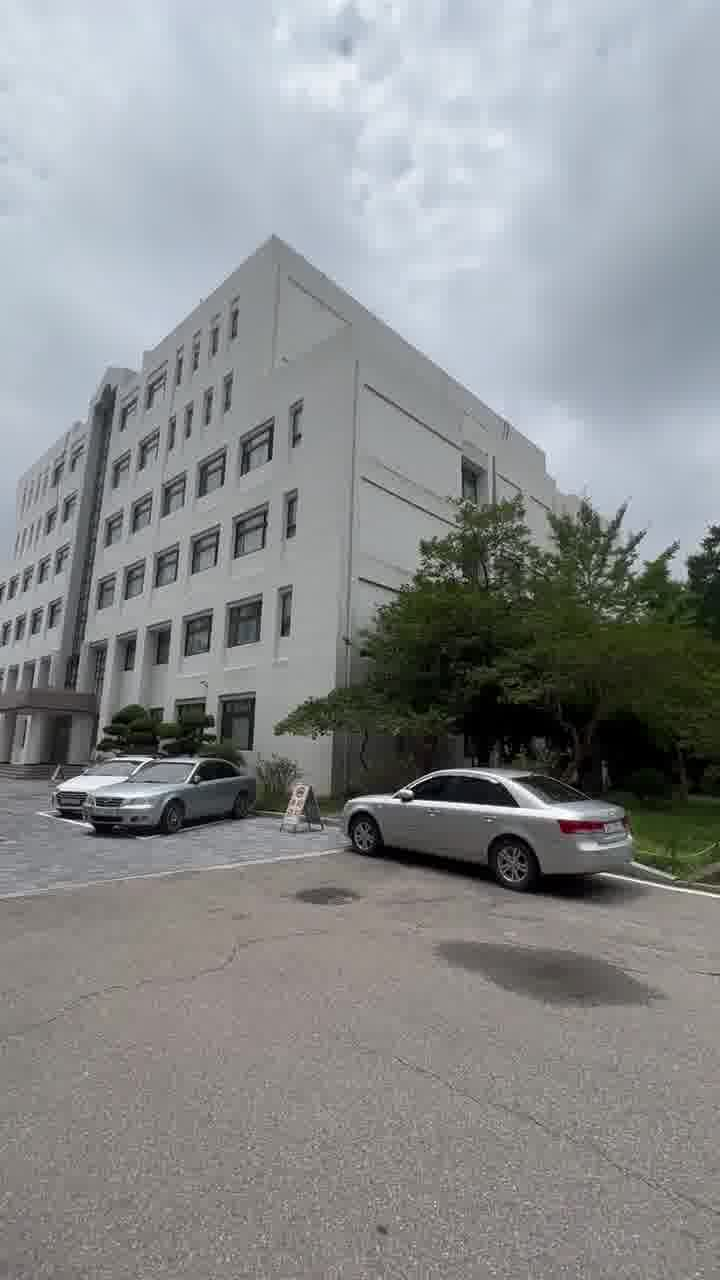low: (48, 242, 348, 738)
